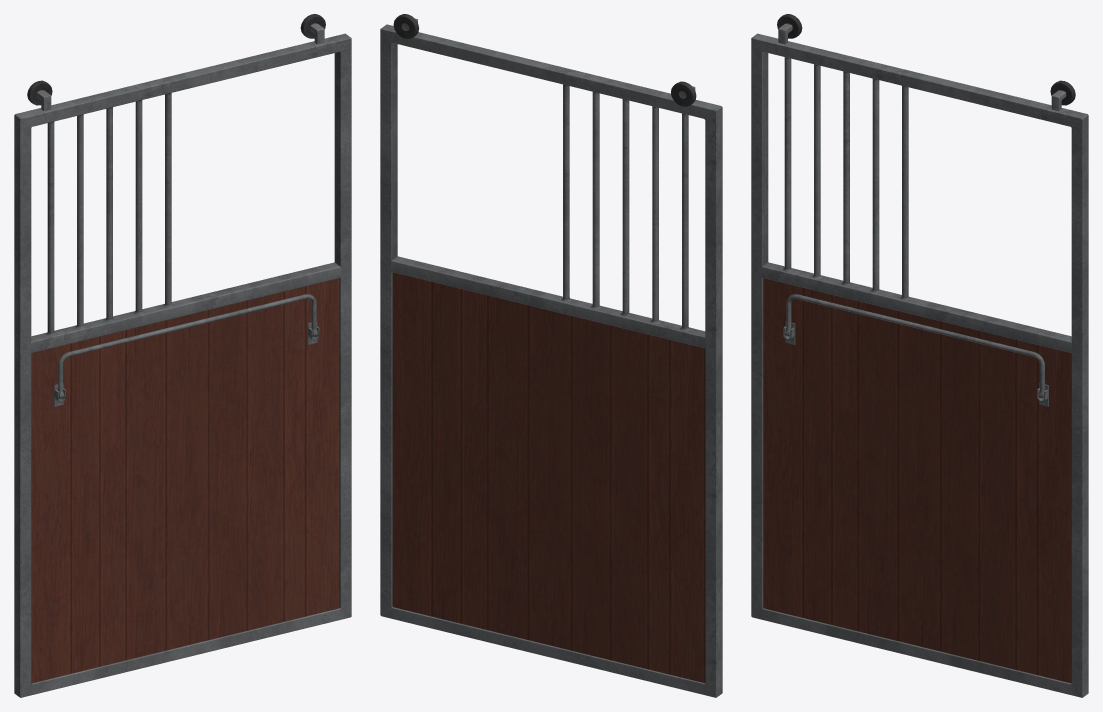
File: Pen_01_Straight_Door_Narrow_Hole.fbx
3 views of the same model, side by side, from view 1: azimuth 30°, elevation 25°; view 2: azimuth 150°, elevation 25°; view 3: azimuth 330°, elevation 25° (orthographic).
Parts seen in each view (by area): view 1: Pen_01_Straight_Door_Narrow_Hole; view 2: Pen_01_Straight_Door_Narrow_Hole; view 3: Pen_01_Straight_Door_Narrow_Hole.
Boxes of the visible parts, x1,y1,x2,y2 form: Pen_01_Straight_Door_Narrow_Hole: (14,14,351,697); Pen_01_Straight_Door_Narrow_Hole: (380,14,722,697); Pen_01_Straight_Door_Narrow_Hole: (751,14,1088,697).
Bounding box in the file's own units: 150 × 260 × 10.96.
